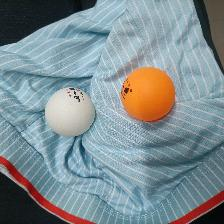WhiteBall: (44, 86, 95, 137)
YellowBall: (119, 66, 175, 122)
